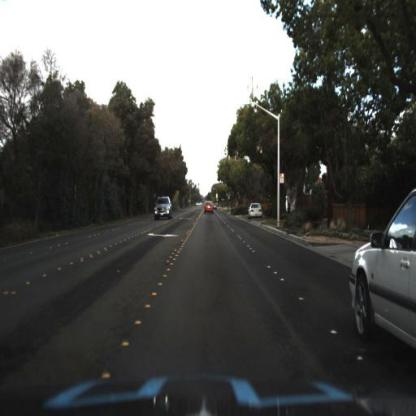car: (340, 147, 416, 373), (151, 191, 175, 227), (247, 200, 265, 221), (202, 195, 218, 217)
